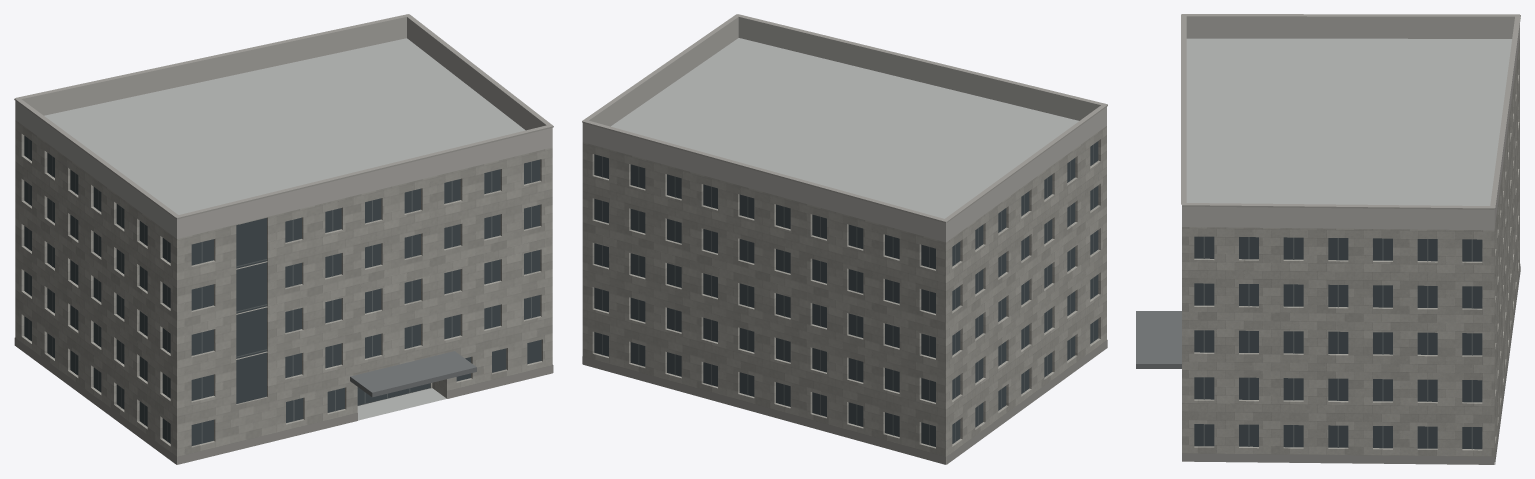
3 views of the same model, side by side, from view 1: azimuth 30°, elevation 25°; view 2: azimuth 150°, elevation 25°; view 3: azimuth 270°, elevation 25° (orthographic). The views are drawn at different scales.
Parts seen in each view (by area): view 1: hospitalSouth__wall, hospitalSouth__roof, hospitalSouth__glass, hospitalSouth__parapet, hospitalSouth__trim, hospitalSouth__base, hospitalSouth__canopy, hospitalSouth__frame; view 2: hospitalSouth__wall, hospitalSouth__roof, hospitalSouth__glass, hospitalSouth__parapet, hospitalSouth__trim, hospitalSouth__base, hospitalSouth__frame; view 3: hospitalSouth__wall, hospitalSouth__roof, hospitalSouth__glass, hospitalSouth__parapet, hospitalSouth__trim, hospitalSouth__base, hospitalSouth__canopy, hospitalSouth__frame.
Boxes of the visible parts, x1,y1,x2,y2 form: hospitalSouth__wall: (15,120,552,464); hospitalSouth__roof: (44,38,525,420); hospitalSouth__glass: (24,136,541,445); hospitalSouth__parapet: (15,17,552,238); hospitalSouth__trim: (14,14,553,219); hospitalSouth__base: (14,337,553,464); hospitalSouth__canopy: (350,351,476,397); hospitalSouth__frame: (28,139,531,443); hospitalSouth__wall: (582,126,1106,464); hospitalSouth__roof: (611,38,1078,218); hospitalSouth__glass: (594,141,1098,446); hospitalSouth__parapet: (582,17,1106,242); hospitalSouth__trim: (582,14,1107,222); hospitalSouth__base: (582,340,1107,464); hospitalSouth__frame: (602,144,1093,445); hospitalSouth__wall: (1182,39,1519,461); hospitalSouth__roof: (1186,38,1511,205); hospitalSouth__glass: (1194,236,1482,449); hospitalSouth__parapet: (1182,16,1519,230); hospitalSouth__trim: (1181,14,1520,209); hospitalSouth__base: (1182,264,1520,464); hospitalSouth__canopy: (1136,311,1181,368); hospitalSouth__frame: (1203,236,1472,449).
Bounding box in the file's own units: 30.07 × 18.5 × 25.14.
Materials: 9 (1 with a texture image).
